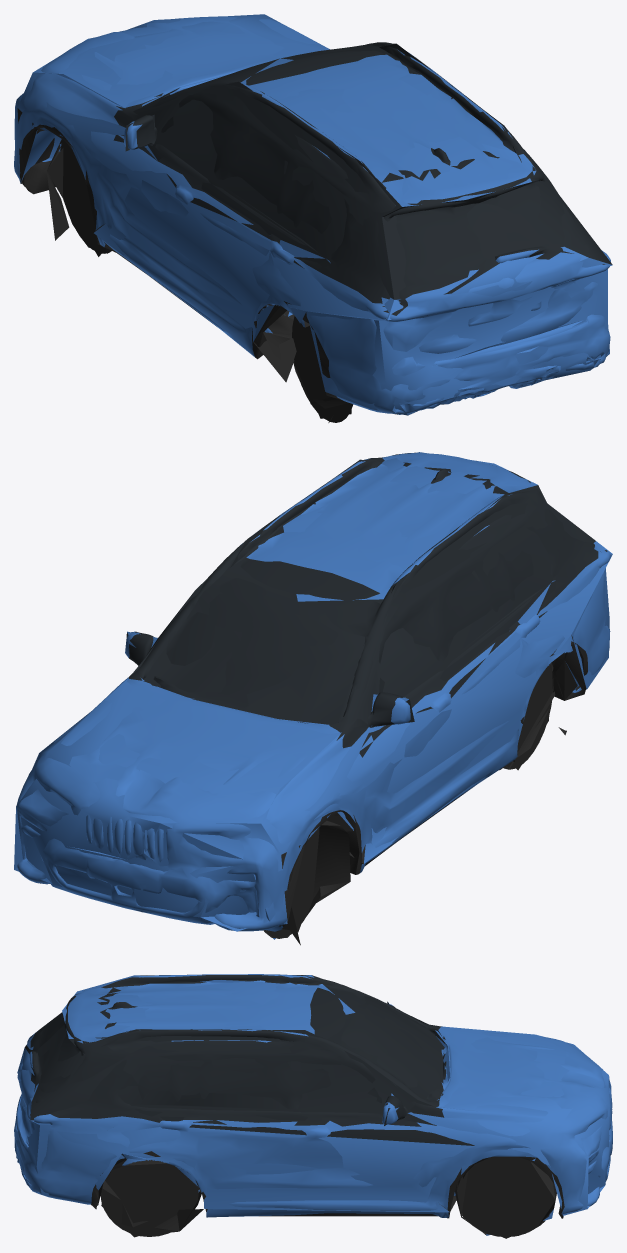
File: bmw-x7.glb
The picture shows the model from 3 angles, top to bottom: view 1: azimuth 30°, elevation 25°; view 2: azimuth 150°, elevation 25°; view 3: azimuth 270°, elevation 25°; orthographic projection. The views are drawn at different scales.
Parts seen in each view (by area): view 1: body, far; view 2: body, far; view 3: body, far.
Part boxes in pixels (x1=…): body: x1=14, y1=16, x2=610, y2=422; far: x1=14, y1=14, x2=612, y2=418; body: x1=17, y1=452, x2=611, y2=944; far: x1=14, y1=452, x2=612, y2=939; body: x1=14, y1=974, x2=612, y2=1236; far: x1=14, y1=975, x2=612, y2=1238.
Bounding box in the file's own units: 2.23 × 1.93 × 5.21.
